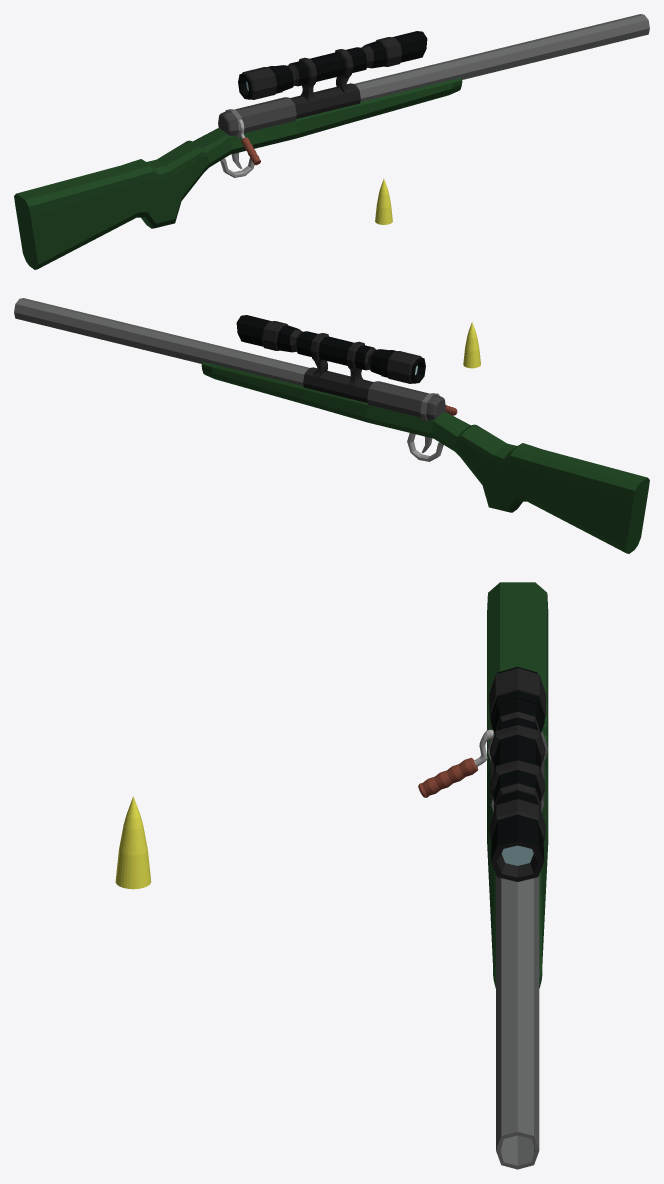
File: Sniper.fbx
The picture shows the model from 3 angles, top to bottom: view 1: azimuth 30°, elevation 25°; view 2: azimuth 150°, elevation 25°; view 3: azimuth 270°, elevation 25°; orthographic projection. The views are drawn at different scales.
Parts seen in each view (by area): view 1: Sniper, Bullet; view 2: Sniper, Bullet; view 3: Sniper, Bullet.
Boxes of the visible parts, <box> form: Sniper: <box>14,14,649,269</box>; Bullet: <box>375,179,392,224</box>; Sniper: <box>14,298,649,553</box>; Bullet: <box>463,322,480,368</box>; Sniper: <box>418,582,548,1169</box>; Bullet: <box>115,796,151,889</box>.
Size of the model in its own units: 2421 by 528 by 728.
